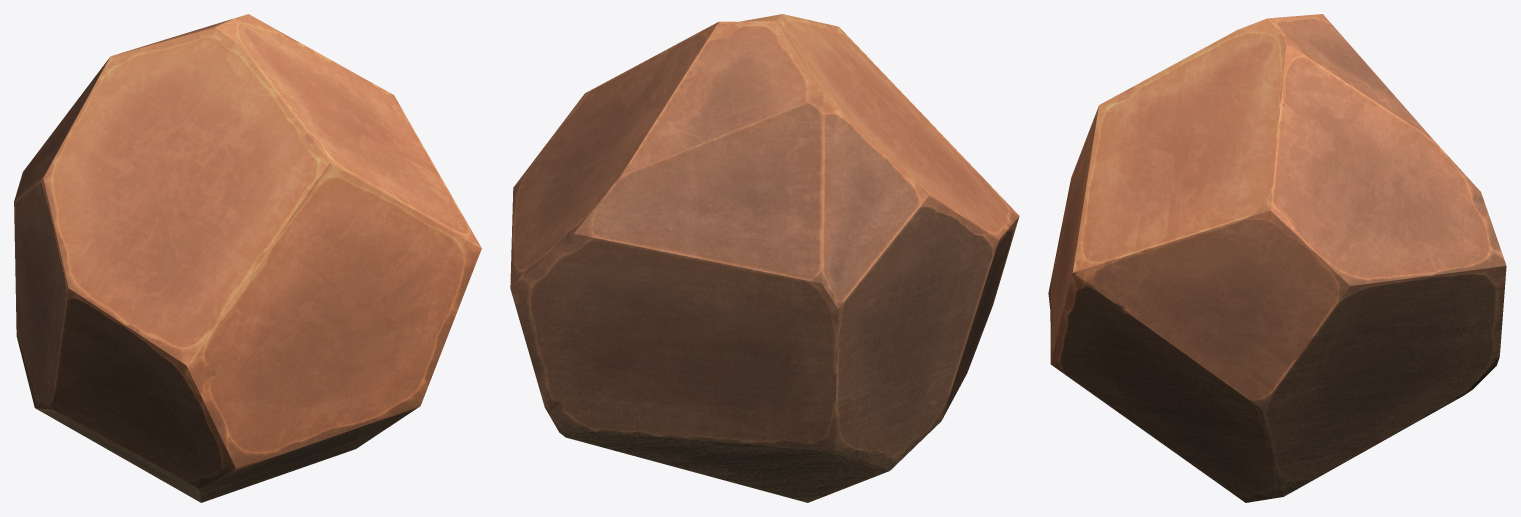
Rendered from S_rocks_01.glb.
3 views of the same model, side by side, from view 1: azimuth 30°, elevation 25°; view 2: azimuth 150°, elevation 25°; view 3: azimuth 270°, elevation 25° (orthographic). The views are drawn at different scales.
Parts seen in each view (by area): view 1: S_Rock_01; view 2: S_Rock_01; view 3: S_Rock_01.
Boxes of the visible parts, left/top/right/bottom form: S_Rock_01: left=14, top=14, right=481, bottom=502; S_Rock_01: left=510, top=14, right=1019, bottom=502; S_Rock_01: left=1048, top=14, right=1506, bottom=502.
Bounding box in the file's own units: 1.12 × 1.27 × 1.19.
Materials: 1 (1 with a texture image).
